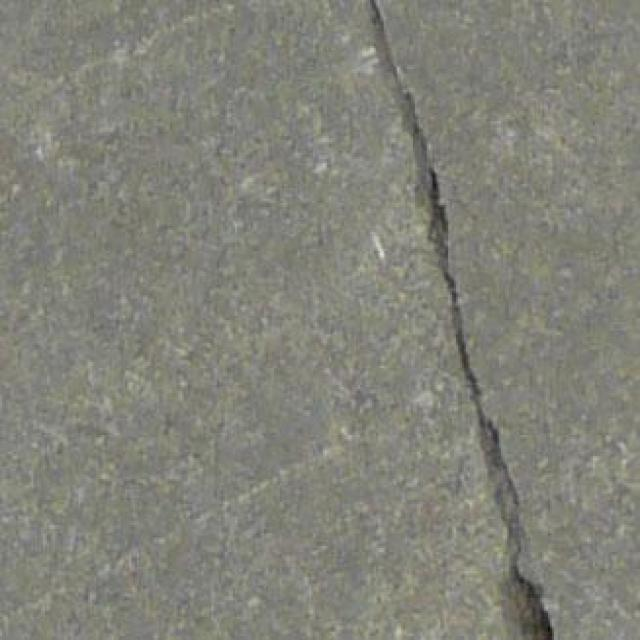diagonal crack: (364, 0, 554, 638)
